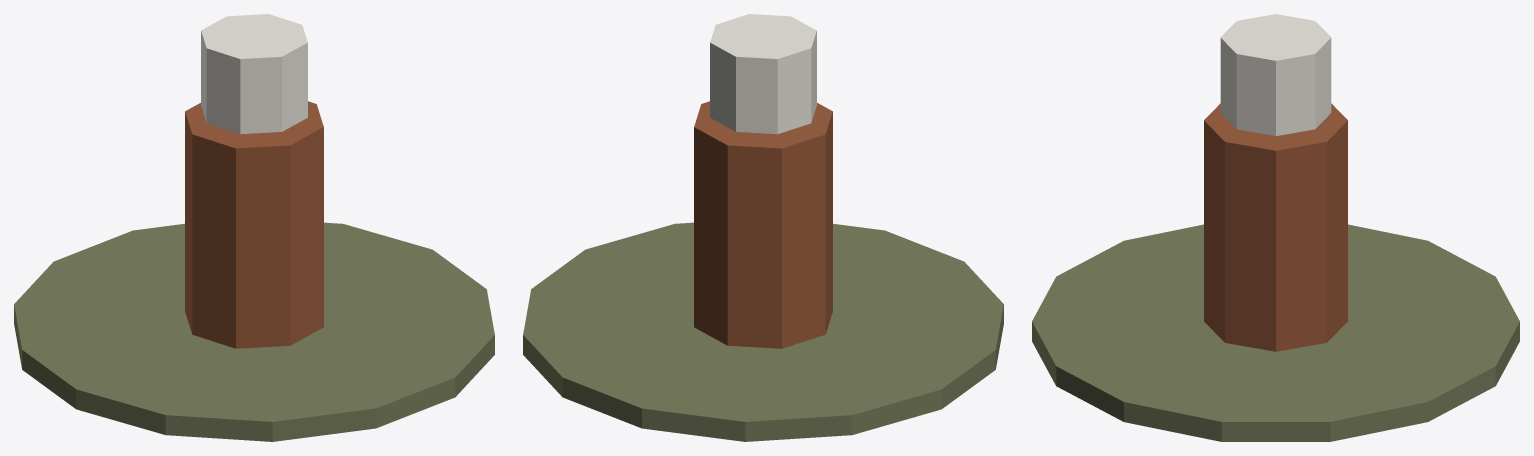
File: sod_infiltrator.glb
3 renders of one model, left to right at view 1: azimuth 30°, elevation 25°; view 2: azimuth 150°, elevation 25°; view 3: azimuth 270°, elevation 25°, orthographic.
Visible parts, largest first — view 1: sod_infiltrator; view 2: sod_infiltrator; view 3: sod_infiltrator.
Part boxes in pixels (x1,y1,x2,y2): sod_infiltrator: (14, 14, 494, 441); sod_infiltrator: (523, 14, 1003, 441); sod_infiltrator: (1032, 14, 1519, 441).
Bounding box in the file's own units: 0.429 × 0.3025 × 0.44.
